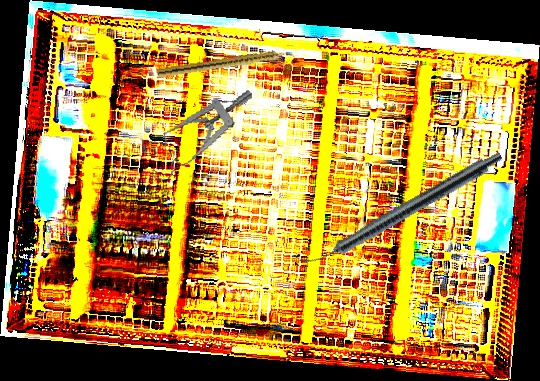Handpiece: (298, 144, 506, 277), (155, 47, 296, 81)
Speculum: (134, 89, 267, 184)
